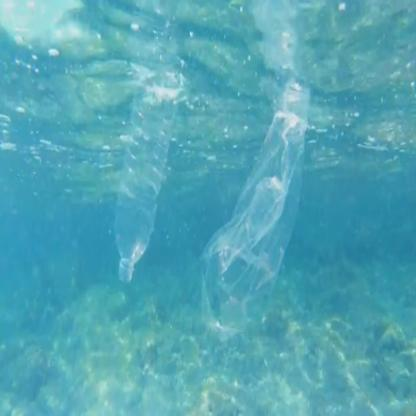Rác: (197, 108, 355, 302), (101, 68, 174, 281)
